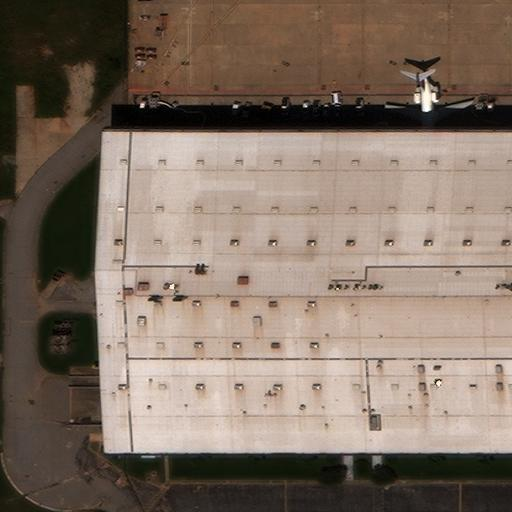Medium Civil Transport: (382, 66, 474, 147)
